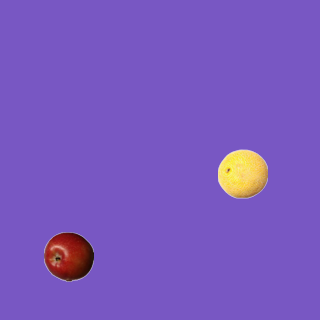Apple Braeburn: (43, 231, 93, 281)
Cantaloupe 1: (217, 148, 267, 198)
